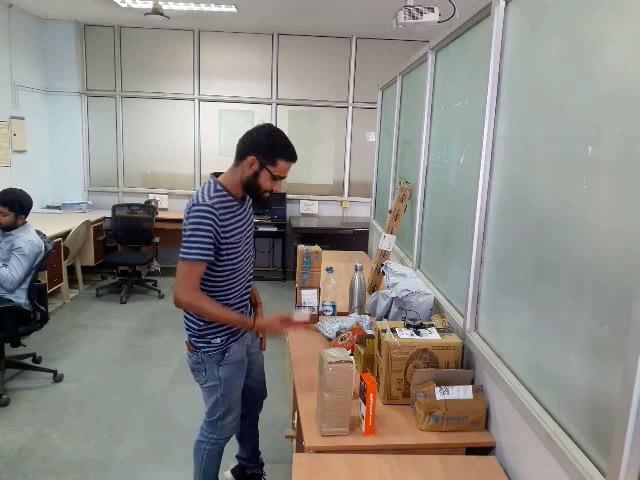Normal: (144, 75, 640, 466)
